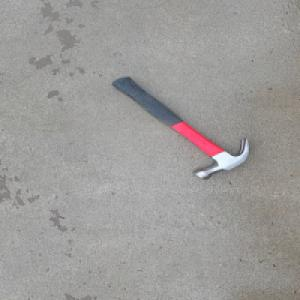Hammer: (111, 77, 251, 181)
